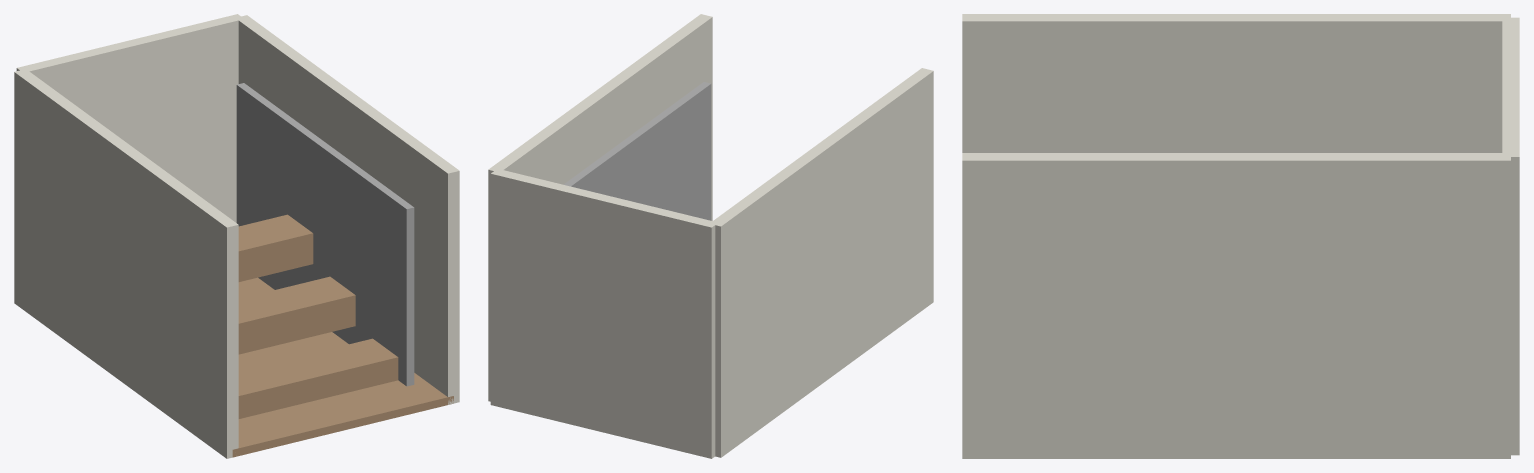
Rendered from apartment_stairwell.glb.
3 renders of one model, left to right at view 1: azimuth 30°, elevation 25°; view 2: azimuth 150°, elevation 25°; view 3: azimuth 270°, elevation 25°, orthographic. The views are drawn at different scales.
Visible parts, largest first — view 1: left, rail, right, back, floor, step1, step2, step3; view 2: back, left, right, rail; view 3: right, left, back.
Boxes of the visible parts, x1=… form: left: x1=14, y1=70, x2=238, y2=458; rail: x1=236, y1=83, x2=414, y2=386; right: x1=237, y1=15, x2=459, y2=404; back: x1=16, y1=14, x2=243, y2=222; floor: x1=232, y1=277, x2=453, y2=457; step1: x1=238, y1=338, x2=398, y2=418; step2: x1=238, y1=276, x2=355, y2=354; step3: x1=238, y1=214, x2=313, y2=281; back: x1=490, y1=169, x2=717, y2=458; left: x1=710, y1=68, x2=933, y2=457; right: x1=488, y1=14, x2=712, y2=401; rail: x1=563, y1=82, x2=711, y2=220; right: x1=962, y1=153, x2=1510, y2=458; left: x1=962, y1=14, x2=1510, y2=152; back: x1=1502, y1=17, x2=1519, y2=455.
Size of the model in its own units: 3.16 by 3 by 5.08.
